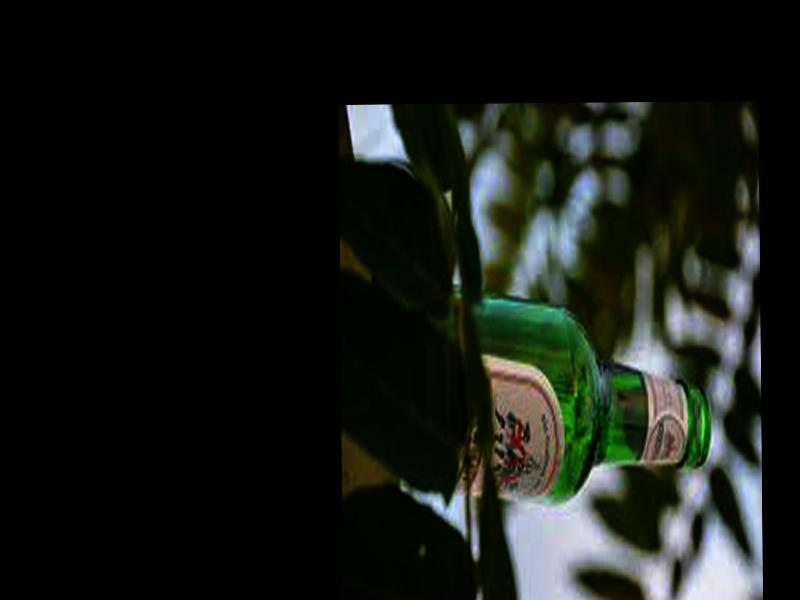Beer: (448, 297, 711, 502)
